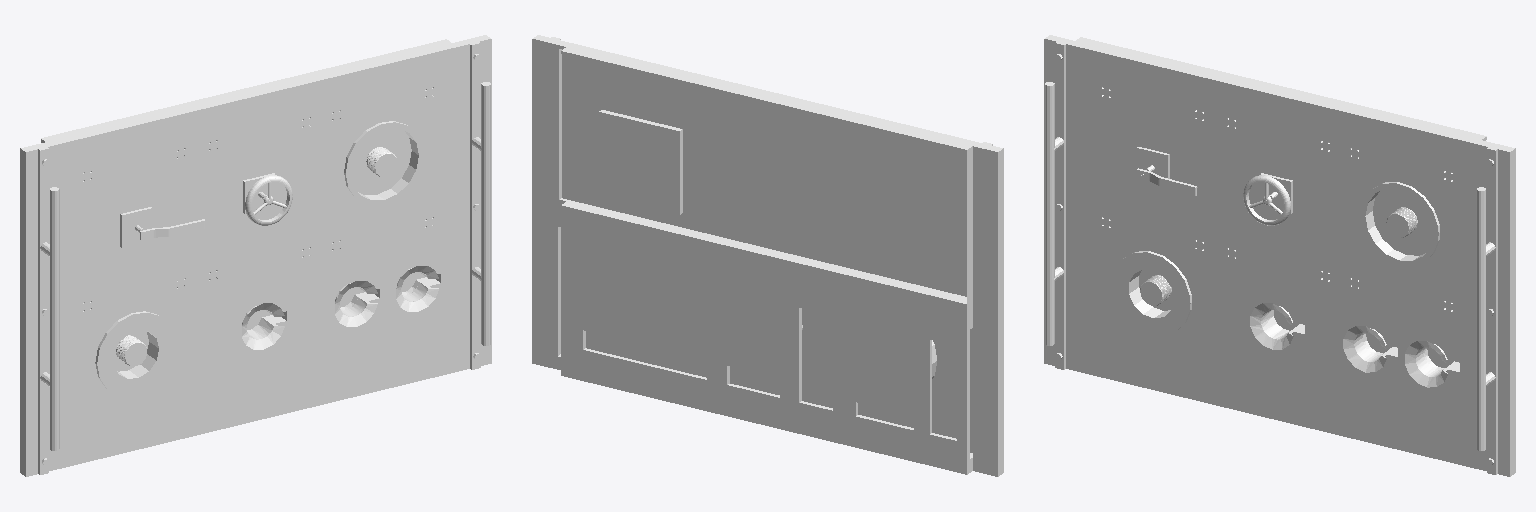
URDF robot description (env_interaction):
<?xml version="1.0" encoding="utf-8"?>
<!-- Cleaned from the exported env.SLDASM URDF. Source CAD assembly is not redistributed. -->
<robot name="env_interaction">
  <link
    name="base_link">
    <inertial>
      <origin
        xyz="0.064724 -1.54 0.045693"
        rpy="0 0 0" />
      <mass
        value="0.052932" />
      <inertia
        ixx="0.004082"
        ixy="-4.62E-06"
        ixz="-4.3151E-05"
        iyy="0.014625"
        iyz="9.8312E-05"
        izz="0.010599" />
    </inertial>
    <visual>
      <origin
        xyz="0 0 0"
        rpy="0 0 0" />
      <geometry>
        <mesh
          filename="package://env_sldasm_export/meshes/base_link.STL" />
      </geometry>
      <material
        name="">
        <color
          rgba="1 1 1 1" />
      </material>
    </visual>
    <collision>
      <origin
        xyz="0 0 0"
        rpy="0 0 0" />
      <geometry>
        <mesh
          filename="package://env_sldasm_export/meshes/base_link.STL" />
      </geometry>
    </collision>
  </link>
  <link
    name="link1">
    <inertial>
      <origin
        xyz="0.081891 0.014942 2.9249E-08"
        rpy="0 0 0" />
      <mass
        value="0.049296" />
      <inertia
        ixx="4.6621E-06"
        ixy="-1.3879E-05"
        ixz="1.5536E-10"
        iyy="0.00016162"
        iyz="-1.209E-11"
        izz="0.00016109" />
    </inertial>
    <visual>
      <origin
        xyz="0 0 0"
        rpy="0 0 0" />
      <geometry>
        <mesh
          filename="package://env_sldasm_export/meshes/link1.STL" />
      </geometry>
      <material
        name="">
        <color
          rgba="1 1 1 1" />
      </material>
    </visual>
    <collision>
      <origin
        xyz="0 0 0"
        rpy="0 0 0" />
      <geometry>
        <mesh
          filename="package://env_sldasm_export/meshes/link1.STL" />
      </geometry>
    </collision>
  </link>
  <joint name="joint1" type="revolute">
    <origin xyz="-0.32994 -1.6151 0.26829" rpy="3.1416 0.019008 0" />
    <parent link="base_link" />
    <child link="link1" />
    <axis xyz="0 1 0" />
    <limit lower="-3.1415926536" upper="3.1415926536" effort="10" velocity="6.28" />
  </joint>
  <link
    name="link2">
    <inertial>
      <origin
        xyz="2.3613E-06 -1.1765E-07 0.0064124"
        rpy="0 0 0" />
      <mass
        value="0.097724" />
      <inertia
        ixx="0.0001948"
        ixy="1.3234E-09"
        ixz="1.331E-10"
        iyy="0.00019482"
        iyz="-8.9385E-11"
        izz="0.00038661" />
    </inertial>
    <visual>
      <origin
        xyz="0 0 0"
        rpy="0 0 0" />
      <geometry>
        <mesh
          filename="package://env_sldasm_export/meshes/link2.STL" />
      </geometry>
      <material
        name="">
        <color
          rgba="1 1 1 1" />
      </material>
    </visual>
    <collision>
      <origin
        xyz="0 0 0"
        rpy="0 0 0" />
      <geometry>
        <mesh
          filename="package://env_sldasm_export/meshes/link2.STL" />
      </geometry>
    </collision>
  </link>
  <joint name="joint2" type="revolute">
    <origin xyz="0.066574 -1.6141 0.27925" rpy="1.5708 0 0" />
    <parent link="base_link" />
    <child link="link2" />
    <!-- The export CSV omitted Axis_joint2; provisional z axis, verify against CAD before dynamics use. -->
    <axis xyz="0 0 1" />
    <limit lower="-3.1415926536" upper="3.1415926536" effort="10" velocity="6.28" />
  </joint>
</robot>

--- What the picture shows (computed from the rendered views, not written in the file) ---
3 views of the same robot in one strip: view 1: azimuth 30°, elevation 25°; view 2: azimuth 150°, elevation 25°; view 3: azimuth 330°, elevation 25° (orthographic).
Model env_interaction with 3 links and 2 joints (2 revolute), rooted at base_link, posed every joint at zero.
Links seen in each view (by area): view 1: base_link, link2, link1; view 2: base_link; view 3: base_link, link2, link1.
Boxes of the visible links, x1,y1,x2,y2 form: base_link: [20, 35, 491, 476]; link2: [245, 175, 292, 225]; link1: [140, 219, 204, 240]; base_link: [532, 35, 1003, 476]; base_link: [1044, 35, 1515, 476]; link2: [1243, 175, 1290, 225]; link1: [1137, 168, 1197, 195].
Size in the robot's own frame: 1.5 by 0.1392 by 1 metres.
Meshes: 3 distinct files referenced, 3 mesh visuals loaded (3 binary STL).
